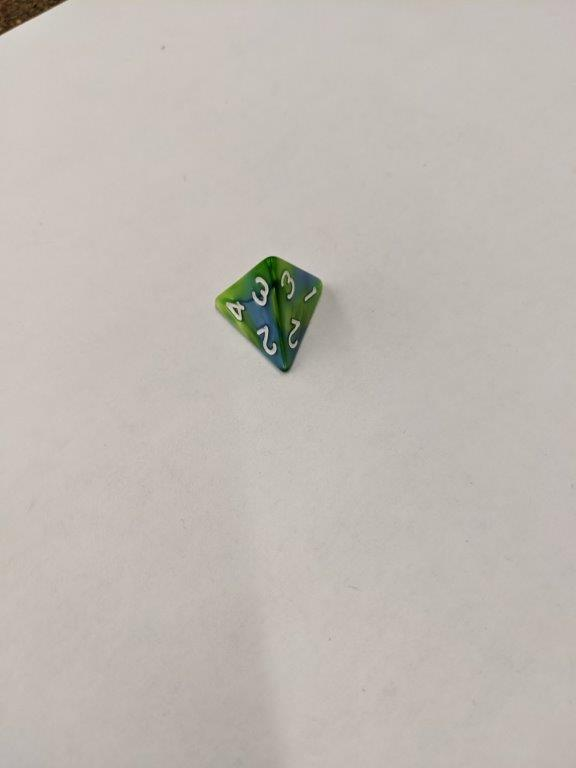d4-3: (211, 253, 324, 376)
